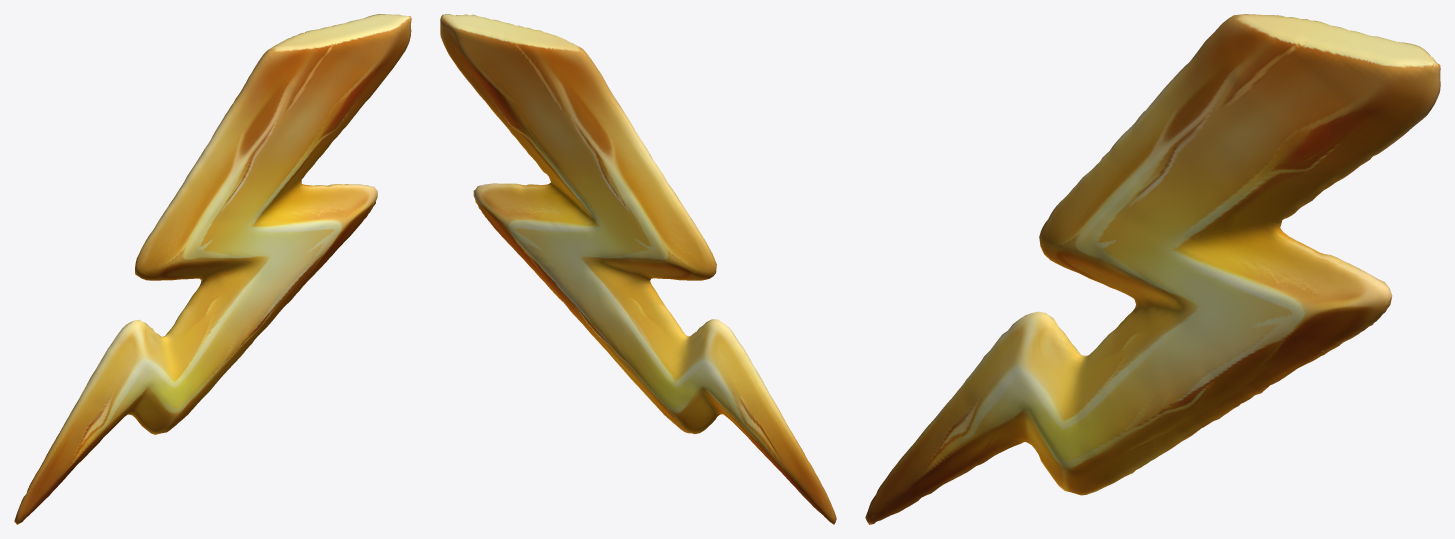
Rendered from Lightning.fbx.
3 views of the same model, side by side, from view 1: azimuth 30°, elevation 25°; view 2: azimuth 150°, elevation 25°; view 3: azimuth 330°, elevation 25° (orthographic). The views are drawn at different scales.
Visible parts, largest first — view 1: RETOPO; view 2: RETOPO; view 3: RETOPO.
Part boxes in pixels (x1,y1,x2,y2): RETOPO: (14,14,411,524); RETOPO: (440,14,836,524); RETOPO: (865,14,1440,524).
Bounding box in the file's own units: 84.28 × 84.52 × 9.38.
Materials: 1 (1 with a texture image).
